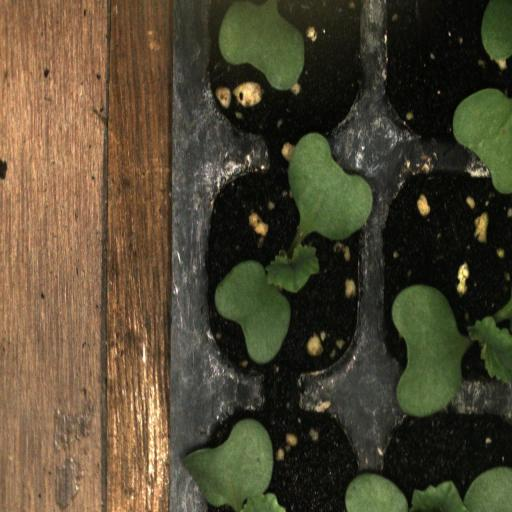seedling: (194, 157, 374, 392), (375, 158, 512, 392)
